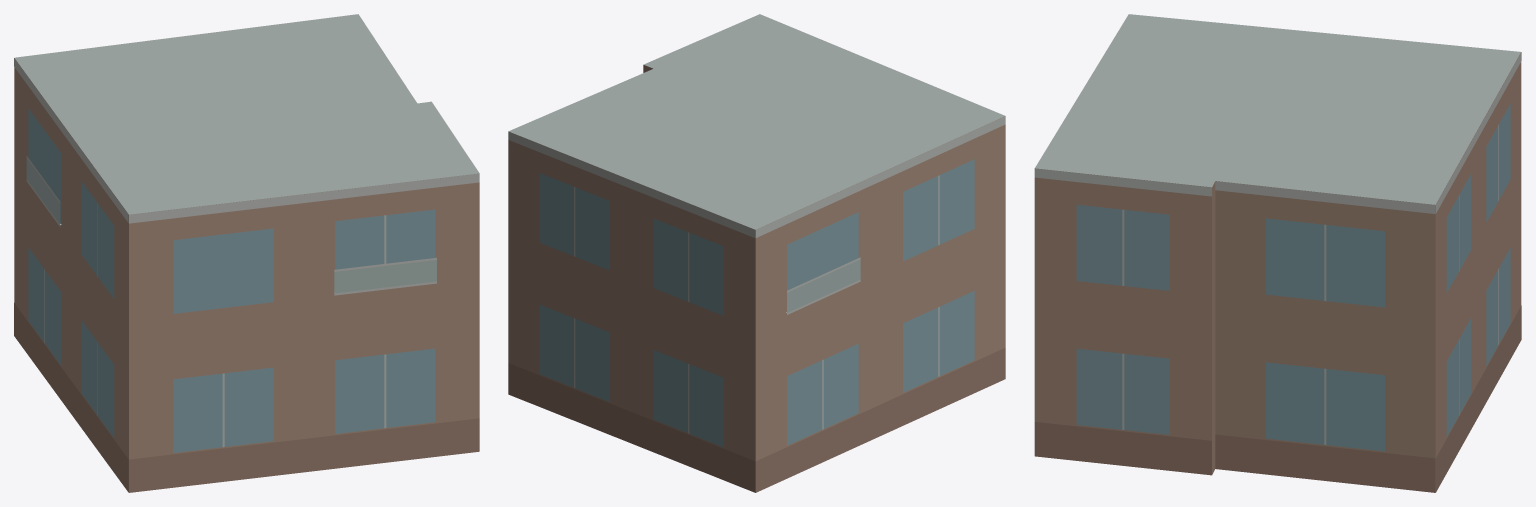
The model's file is survey-upis-32661362.glb.
3 renders of one model, left to right at view 1: azimuth 30°, elevation 25°; view 2: azimuth 150°, elevation 25°; view 3: azimuth 270°, elevation 25°, orthographic. The views are drawn at different scales.
Visible parts, largest first — view 1: survey-upis-32661362.tmp; view 2: survey-upis-32661362.tmp; view 3: survey-upis-32661362.tmp.
Part boxes in pixels (x1=…): survey-upis-32661362.tmp: x1=14, y1=14, x2=479, y2=492; survey-upis-32661362.tmp: x1=508, y1=14, x2=1005, y2=492; survey-upis-32661362.tmp: x1=1034, y1=14, x2=1521, y2=492.
Size of the model in its own units: 10.81 by 7.6 by 11.65.
